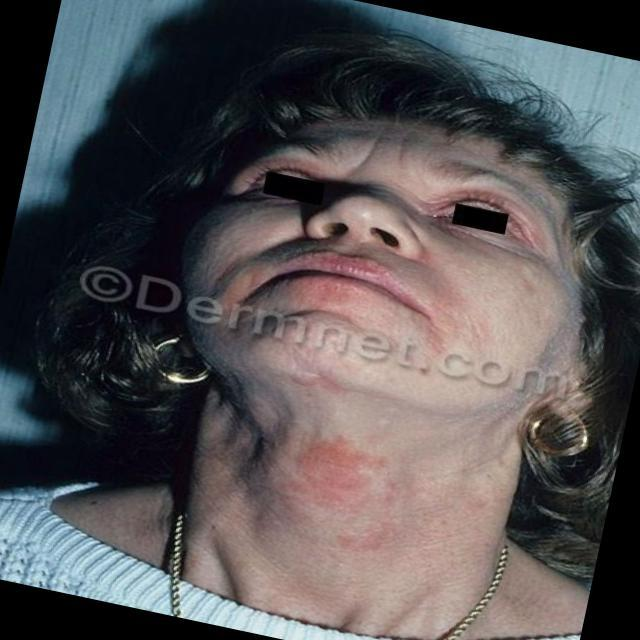Eczema: (289, 432, 401, 581)
